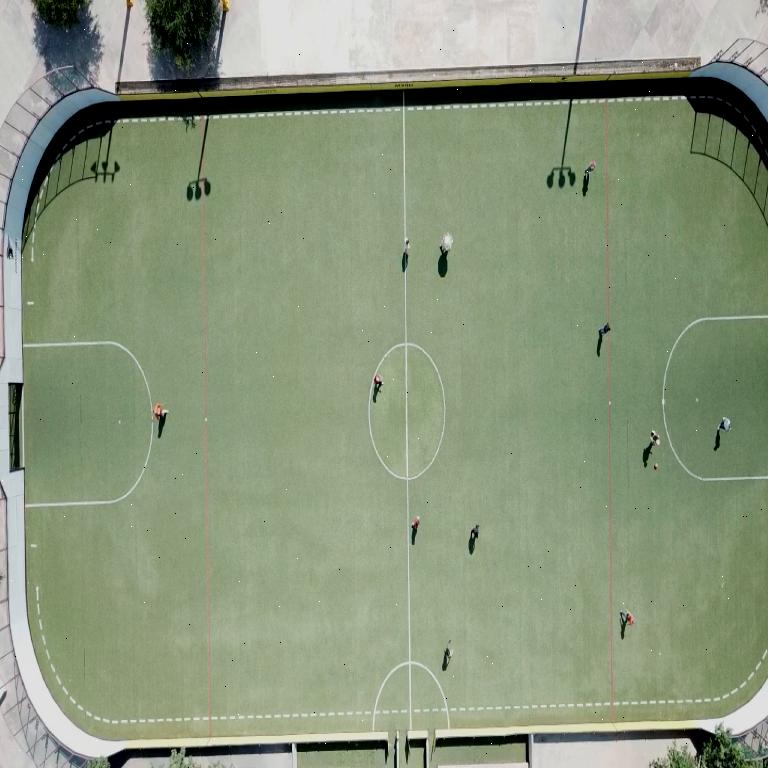AC: (662, 315, 768, 481), (26, 429, 153, 506), (25, 342, 151, 400)
B: (655, 463, 658, 468)
MC: (403, 252, 421, 502), (403, 94, 416, 237), (408, 550, 415, 706)
P: (584, 161, 596, 180), (441, 235, 453, 253), (156, 403, 169, 419), (445, 640, 452, 662), (599, 322, 610, 336), (719, 417, 730, 430), (374, 373, 383, 388), (471, 524, 479, 539), (652, 430, 660, 444), (405, 238, 410, 258), (413, 516, 419, 528), (628, 614, 634, 623)
